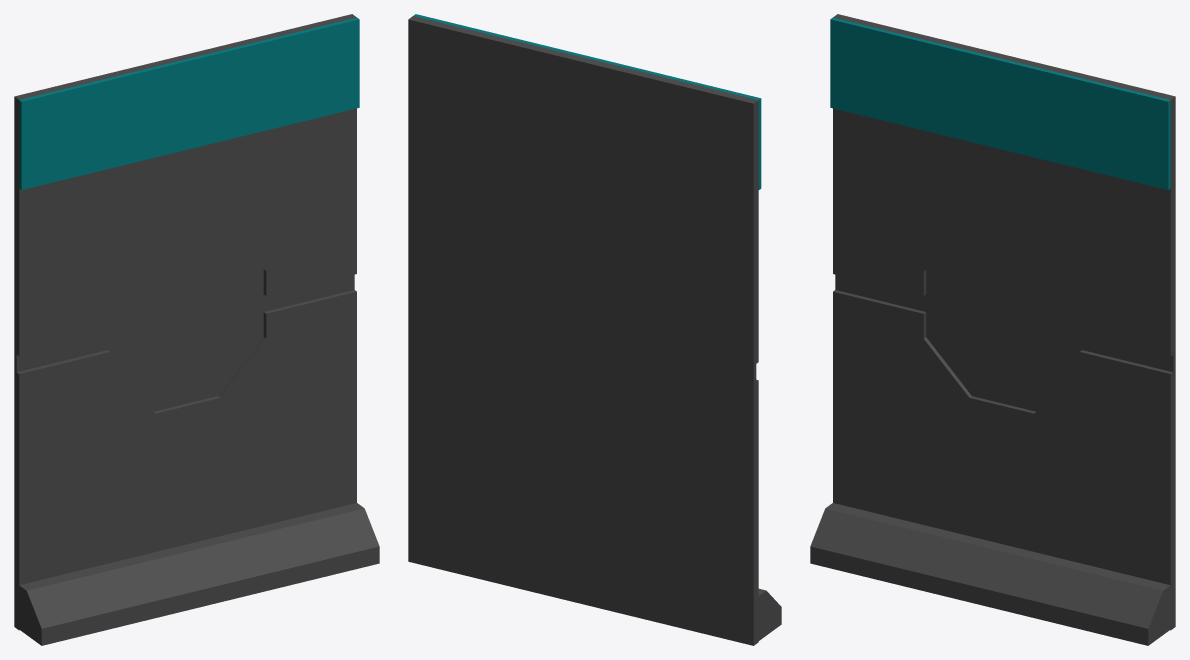
File: Wall1.glb
3 renders of one model, left to right at view 1: azimuth 30°, elevation 25°; view 2: azimuth 150°, elevation 25°; view 3: azimuth 330°, elevation 25°, orthographic. The views are drawn at different scales.
Visible parts, largest first — view 1: Wall, Wall_Panel, Triangle_Connecter; view 2: Wall, Wall_Panel, Triangle_Connecter; view 3: Wall, Wall_Panel, Triangle_Connecter.
Boxes of the visible parts, x1,y1,x2,y2 form: Wall: [14, 14, 356, 630]; Wall_Panel: [19, 17, 359, 189]; Triangle_Connecter: [19, 503, 379, 645]; Wall: [408, 16, 758, 645]; Wall_Panel: [413, 14, 761, 189]; Triangle_Connecter: [756, 588, 781, 642]; Wall: [833, 14, 1175, 630]; Wall_Panel: [830, 17, 1170, 189]; Triangle_Connecter: [810, 503, 1170, 645].
Size of the model in its own units: 4 by 6 by 0.5613.
